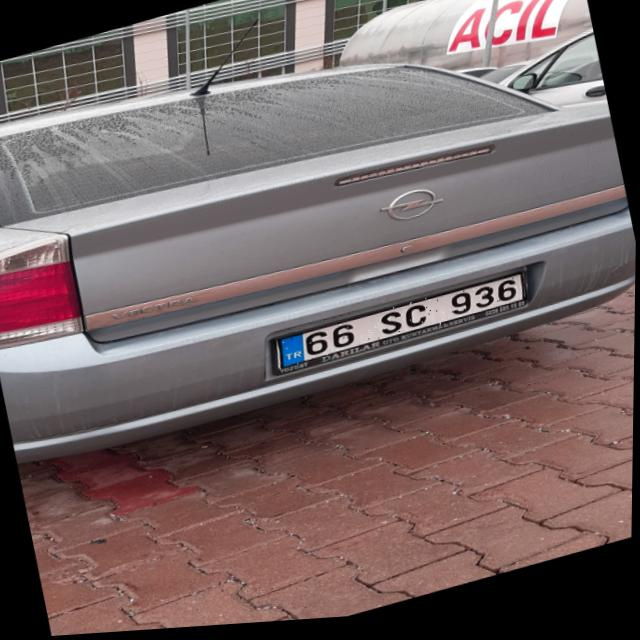license_plate: (273, 278, 529, 373)
